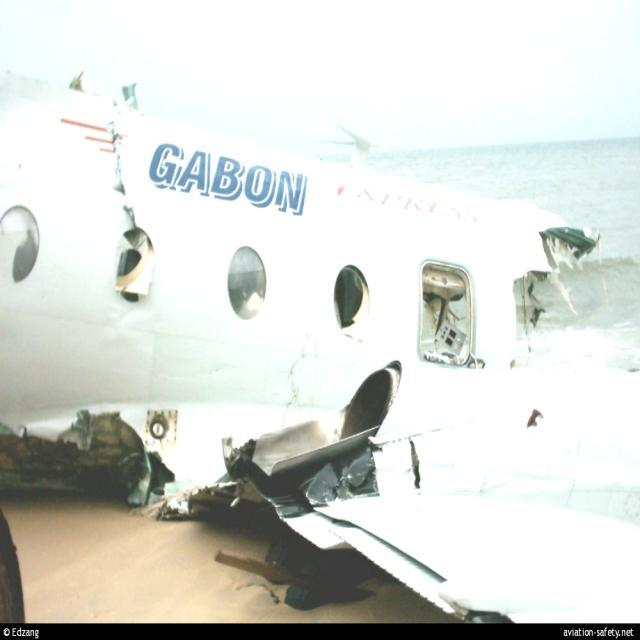crack: (276, 338, 319, 431), (109, 118, 140, 230), (404, 437, 427, 494)
